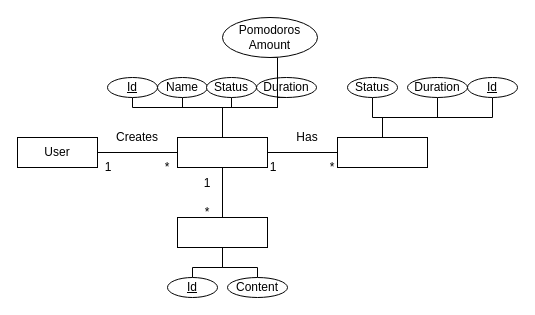
This 535x315 diagram has some shape labels left out. The shapes that lost their labels are listed below. From the top down, each one's centre as x and y in pixels, then its label:
At (222,152): "Task".
At (382,152): "Pomodoro".
At (222,232): "Note".
